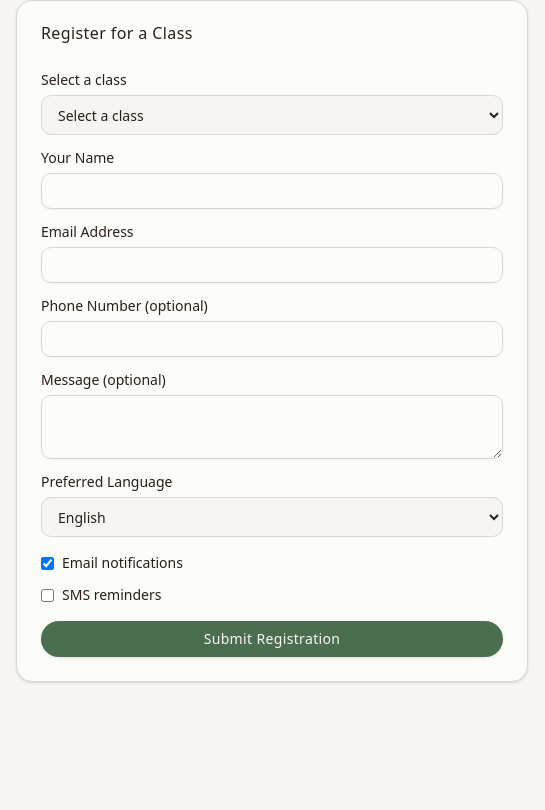
it: RegistrationForm - Consent Flow › Consent Warning and Modal › should show warning when consent is missing
This screenshot has width=545, height=810.
Select "Morning Hatha - Free" in the dropdown labelled "Select a class" at (272, 115), box [41, 95, 503, 135]
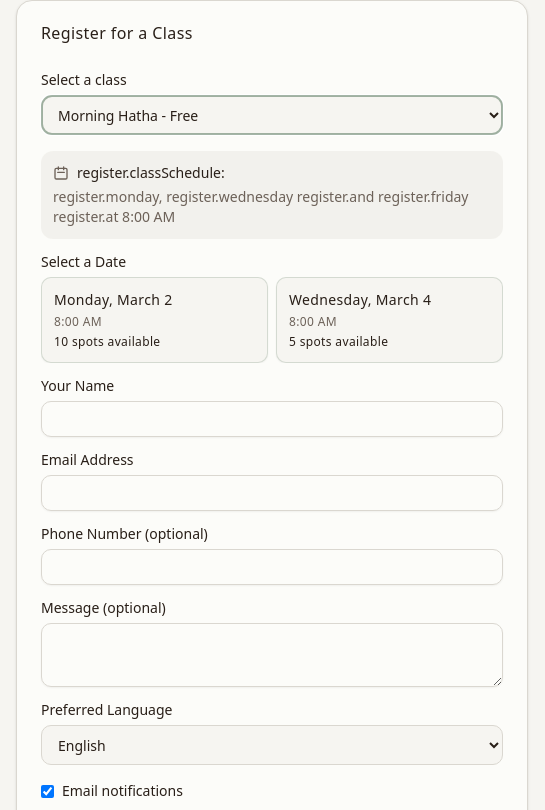
Type "john@example.com" into the field labelled "Email Address" at (272, 493), box [41, 475, 503, 511]
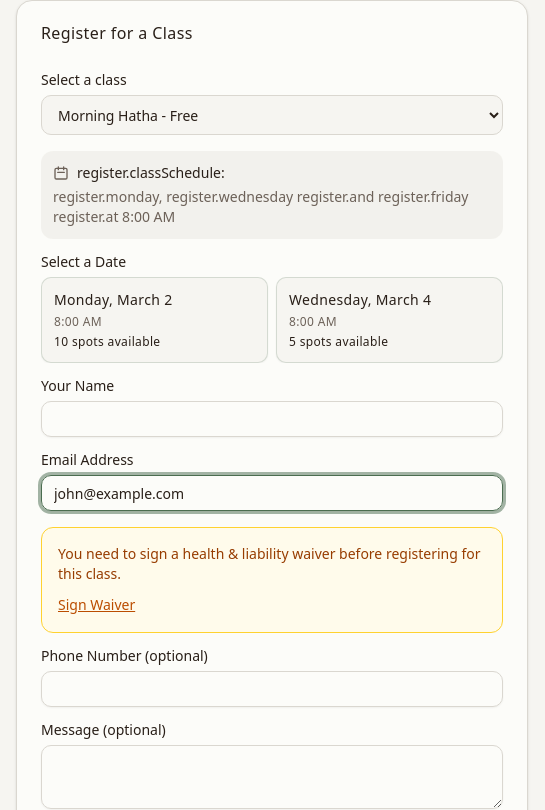
Check: the text "You need to sign a health & liability waiver before registering for this class." is shown, box [58, 544, 486, 584]
